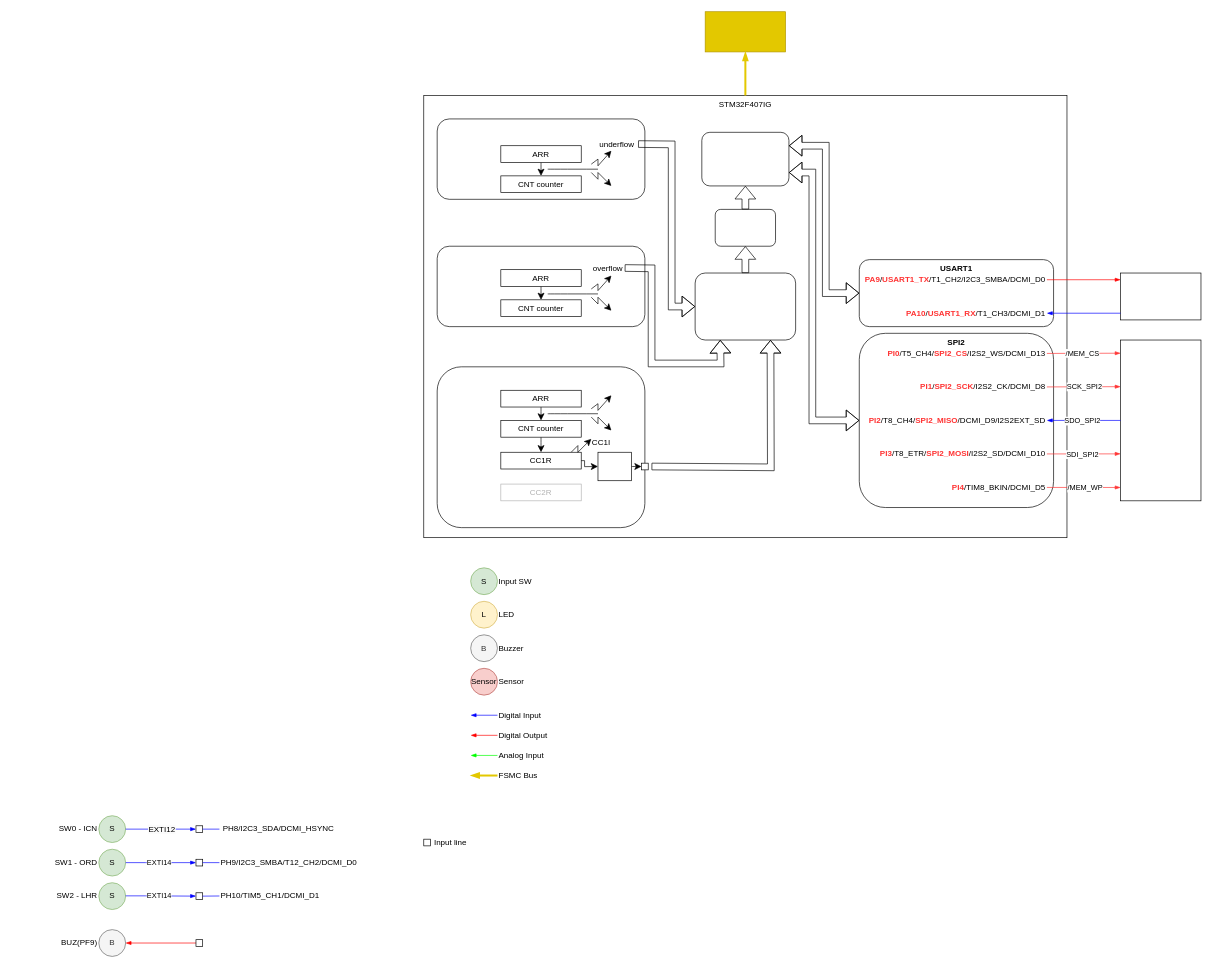
This 1213x968 diagram has some shape labels left out. Here are the shapes that lost their labels. From the top down, the box of each, then its label:
(705, 11, 786, 52): GLCD
(437, 118, 645, 199): TIM2
(701, 132, 789, 186): Arm Cortex-M4
(715, 209, 776, 246): NVIC
(437, 246, 645, 327): TIM6
(694, 272, 796, 340): EXTI/Event Controller
(1120, 272, 1201, 320): PC
(1120, 339, 1201, 501): FRAM
(437, 366, 645, 528): TIM9
(597, 452, 631, 481): Output Control
